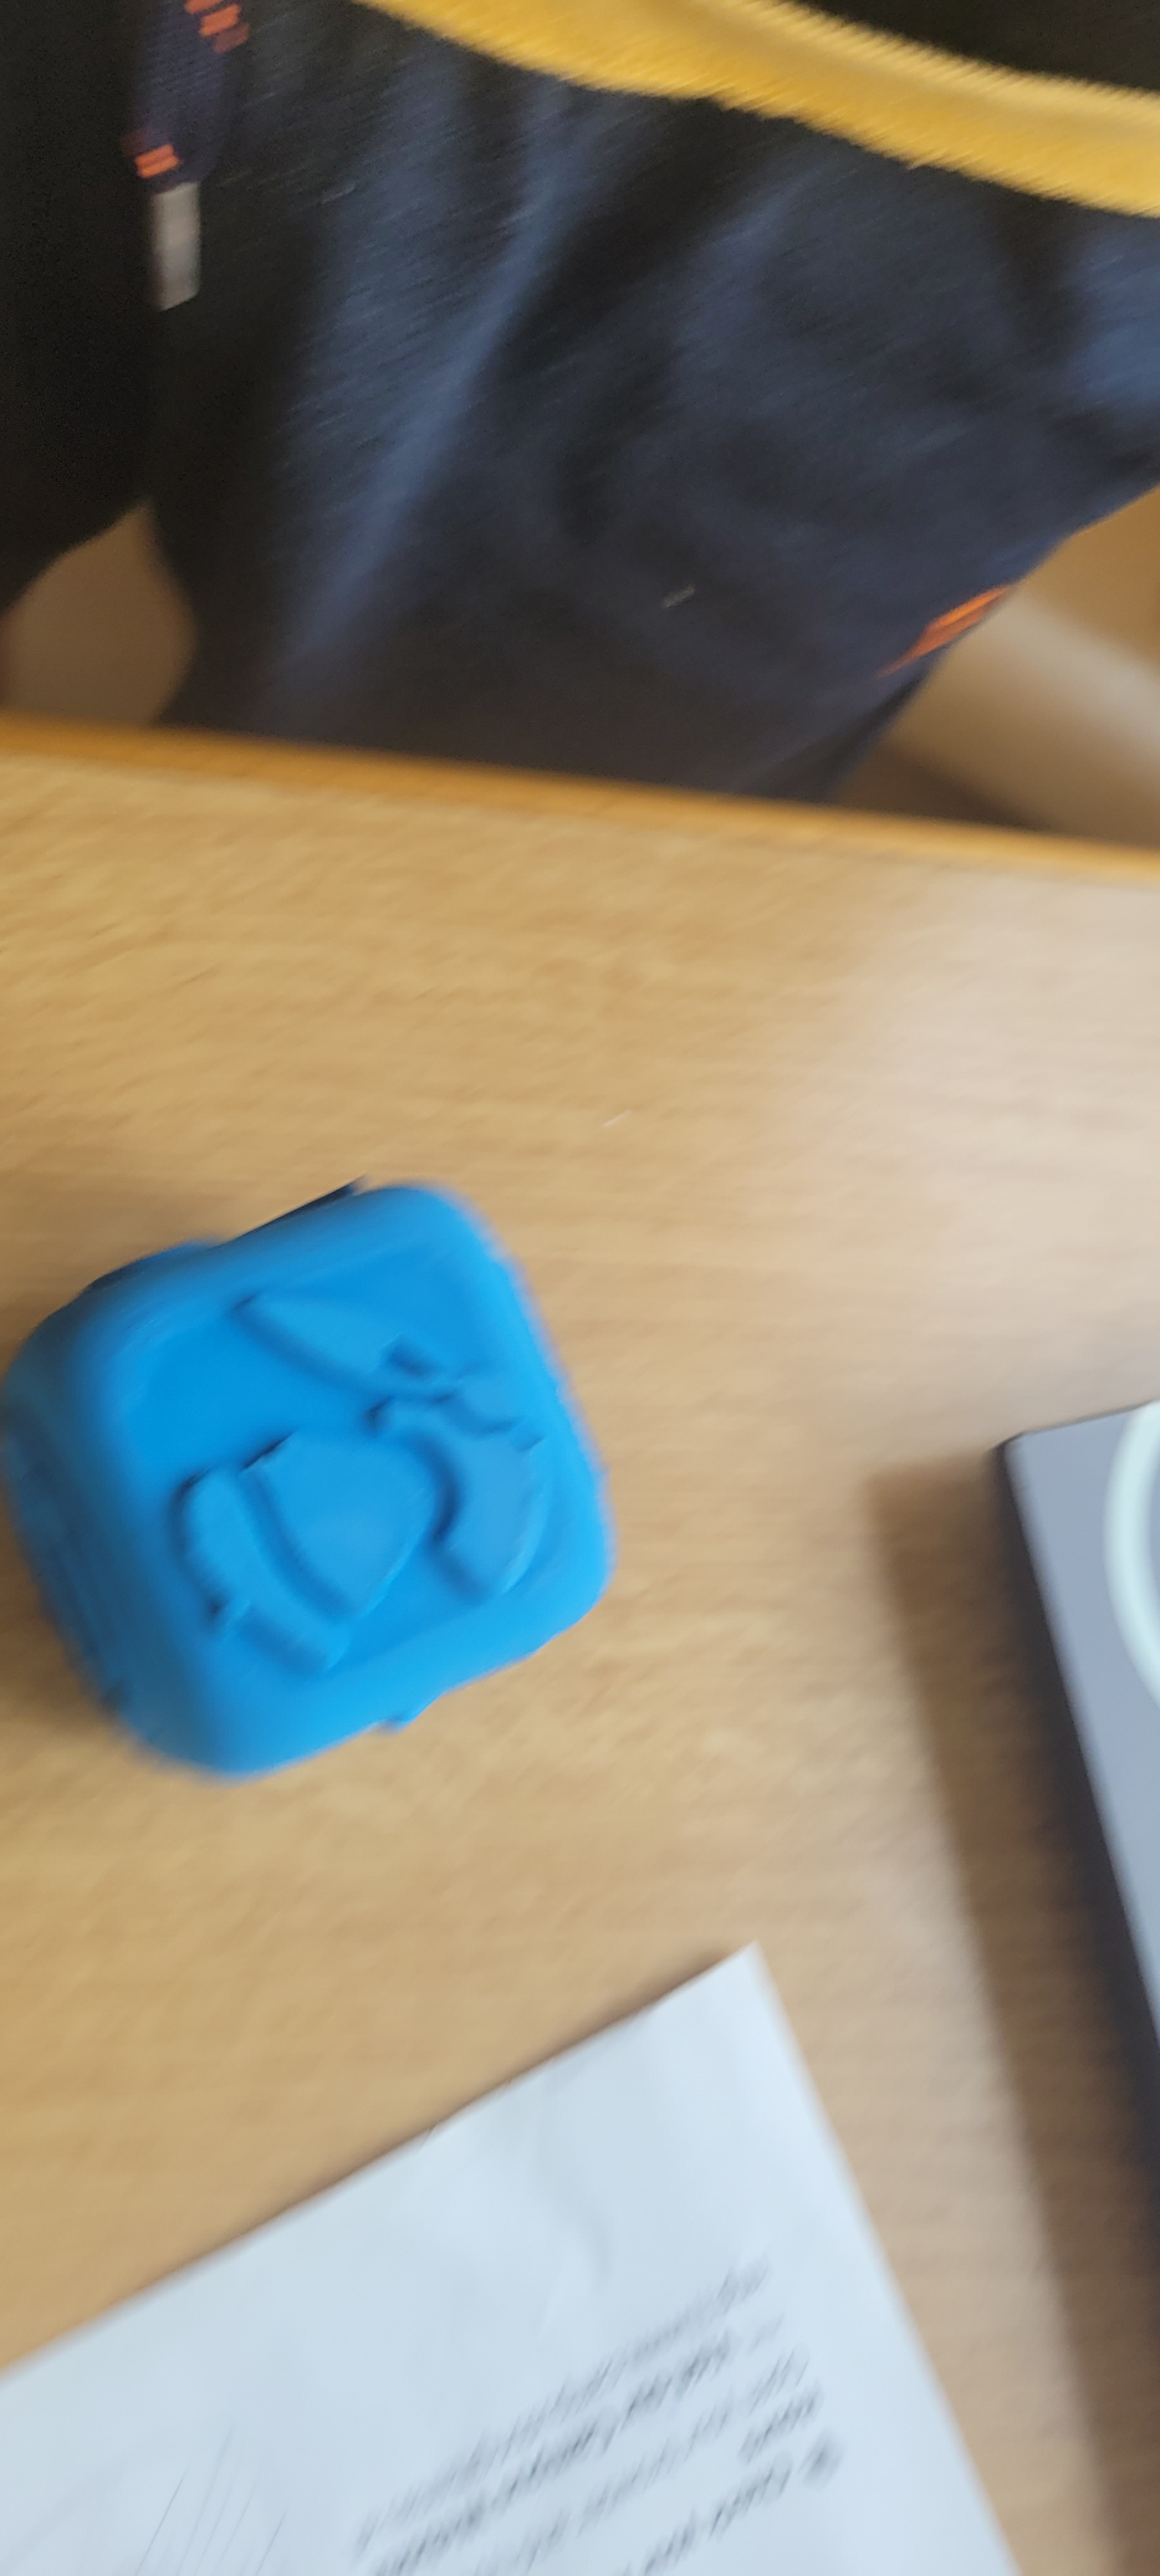Artist_Info: (118, 1144, 591, 1683)
